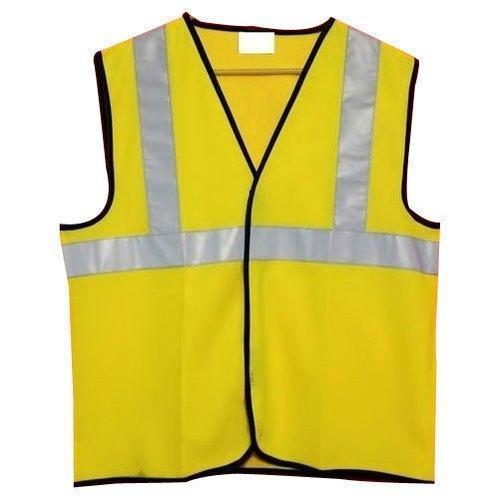vest: (57, 12, 439, 486)
